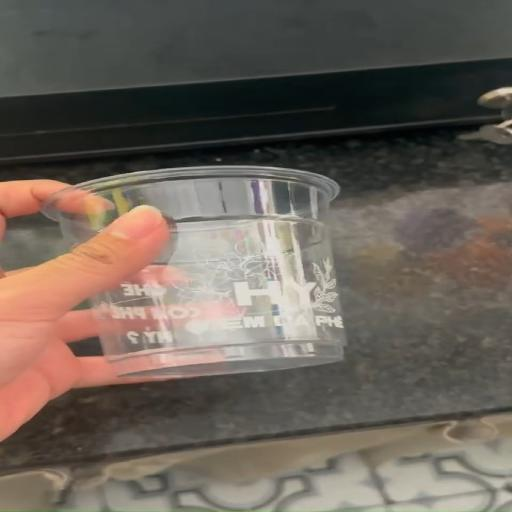Ly_giay: (45, 165, 345, 377)
ly_nhua: (44, 165, 345, 377)
